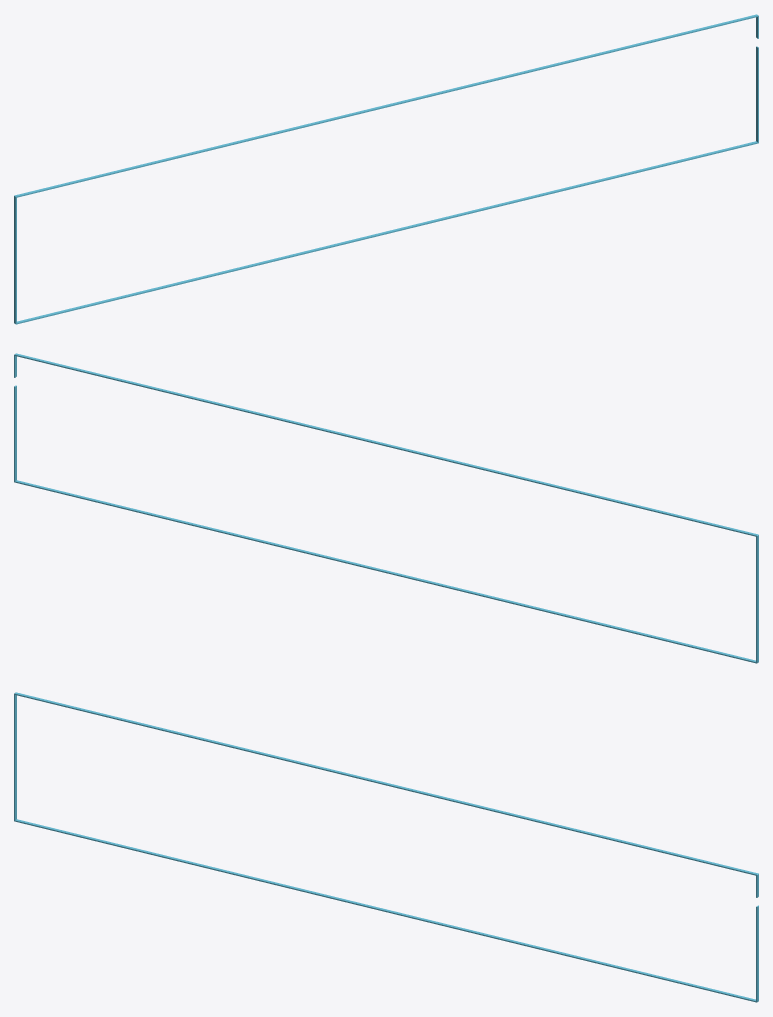
File: title-frameDraco.gltf
3 views of the same model, one above another, from view 1: azimuth 30°, elevation 25°; view 2: azimuth 150°, elevation 25°; view 3: azimuth 330°, elevation 25° (orthographic).
Visible parts, largest first — view 1: Path, キャップ 1; view 2: Path, キャップ 2; view 3: Path, キャップ 1.
Part boxes in pixels (x1,y1,x2,y2): Path: (14, 14, 758, 323); キャップ 1: (15, 15, 758, 324); Path: (14, 353, 758, 662); キャップ 2: (14, 354, 757, 663); Path: (14, 692, 758, 1001); キャップ 1: (14, 693, 757, 1002).
Size of the model in its own units: 4.97 by 0.8169 by 0.02.
